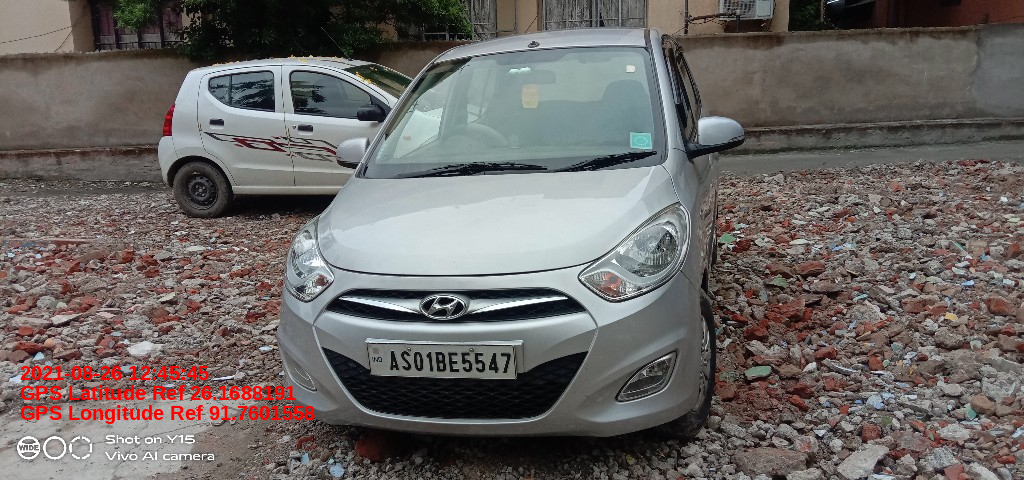Scratched: (580, 387, 613, 409), (581, 363, 596, 383)
